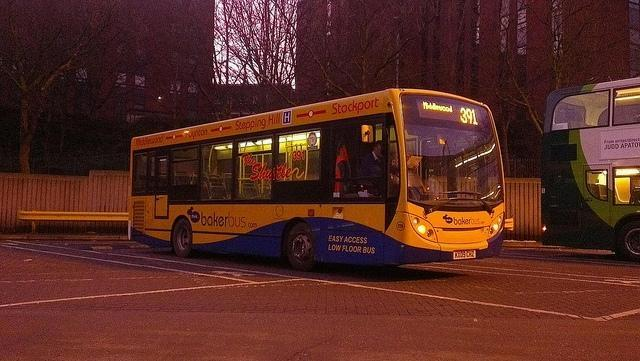bus: (126, 86, 504, 264), (541, 78, 640, 262)
